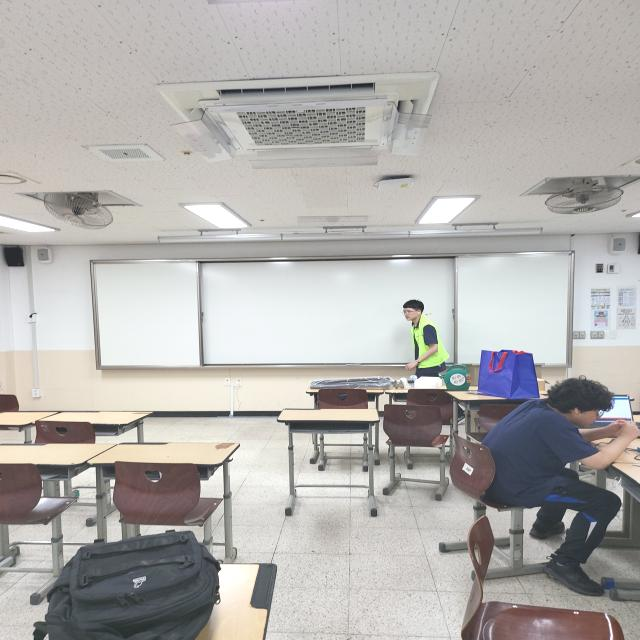weston_spy: (410, 321, 454, 375)
